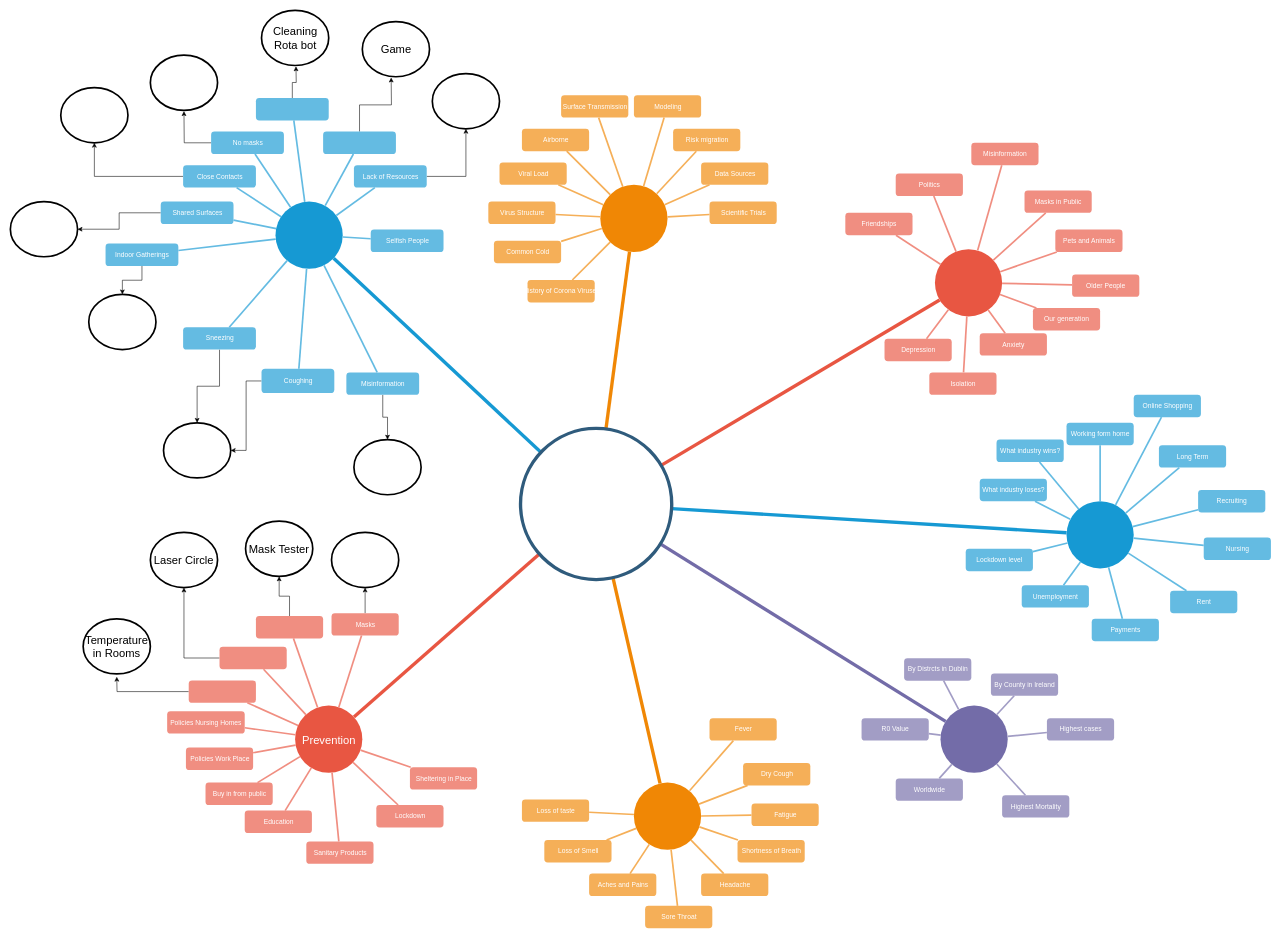
This 1281x938 diagram has some shape labels left out. Each missing label, with the centre of its shape:
Audio Detector: the point at 196,450
Causes of transmission: the point at 308,235
Covid-19: the point at 596,503
Donation Organiser: the point at 465,101
Economy: the point at 1099,534
Key fob system: the point at 94,115
Lack of Education: the point at 359,142
Mask Detector: the point at 183,82
Myth Buster Quiz: the point at 387,466
People in Room Counter: the point at 122,321
Policies Schools: the point at 222,691
Poor Hygiene: the point at 292,109
Rates: the point at 973,739
Respirators: the point at 289,627
Science of Corona Viruses: the point at 633,218
Smart LED Masks: the point at 364,559
Social Distancing: the point at 252,658
Social Impacts: the point at 968,282
Surface Cleaning Robot: the point at 43,228
Symptoms: the point at 667,816
